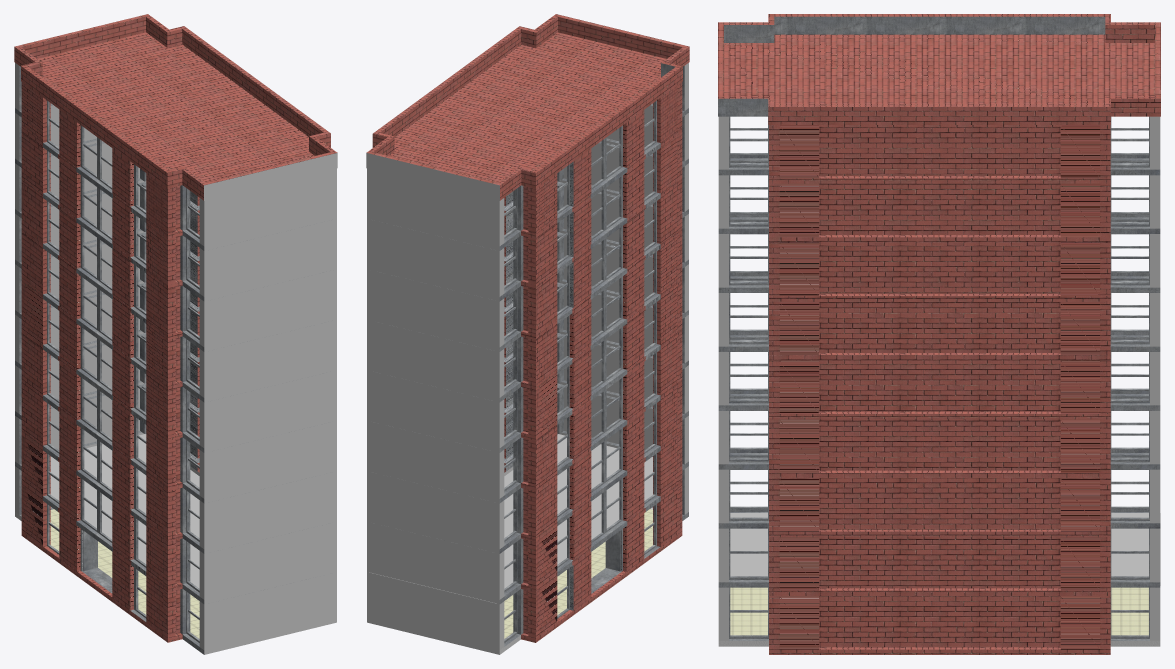
Rendered from edificiosin.obj.
The picture shows the model from 3 angles, left to right: view 1: azimuth 30°, elevation 25°; view 2: azimuth 150°, elevation 25°; view 3: azimuth 270°, elevation 25°; orthographic projection. The views are drawn at different scales.
Parts seen in each view (by area): view 1: building_001.002_building_001_mesh.003, building_001.004_building_001_mesh.005, building_001.005_building_001_mesh.006, building_001_building_001_mesh.001, Plane.001, Plane.004, building_001.003_building_001_mesh.004; view 2: building_001.002_building_001_mesh.003, building_001.004_building_001_mesh.005, building_001.005_building_001_mesh.006, building_001_building_001_mesh.001, Plane.001, Plane.004, building_001.003_building_001_mesh.004; view 3: building_001.003_building_001_mesh.004, building_001.005_building_001_mesh.006, building_001_building_001_mesh.001, building_001.002_building_001_mesh.003, Plane.001, Plane.004.
Part boxes in pixels (bbox=[...]): building_001.002_building_001_mesh.003: bbox=[15, 63, 337, 654]; building_001.004_building_001_mesh.005: bbox=[21, 82, 182, 642]; building_001.005_building_001_mesh.006: bbox=[14, 14, 337, 200]; building_001_building_001_mesh.001: bbox=[15, 66, 204, 654]; Plane.001: bbox=[50, 434, 199, 588]; Plane.004: bbox=[50, 509, 199, 638]; building_001.003_building_001_mesh.004: bbox=[197, 133, 330, 472]; building_001.002_building_001_mesh.003: bbox=[366, 63, 688, 654]; building_001.004_building_001_mesh.005: bbox=[521, 82, 682, 642]; building_001.005_building_001_mesh.006: bbox=[366, 14, 689, 200]; building_001_building_001_mesh.001: bbox=[499, 63, 688, 646]; Plane.001: bbox=[369, 434, 652, 603]; Plane.004: bbox=[504, 509, 652, 638]; building_001.003_building_001_mesh.004: bbox=[372, 133, 505, 472]; building_001.003_building_001_mesh.004: bbox=[768, 107, 1110, 654]; building_001.005_building_001_mesh.006: bbox=[718, 14, 1160, 116]; building_001_building_001_mesh.001: bbox=[718, 16, 1160, 640]; building_001.002_building_001_mesh.003: bbox=[718, 116, 1160, 640]; Plane.001: bbox=[730, 513, 1160, 585]; Plane.004: bbox=[730, 587, 1148, 635].
Bounding box in the file's own units: 11.07 × 30.43 × 22.27.
